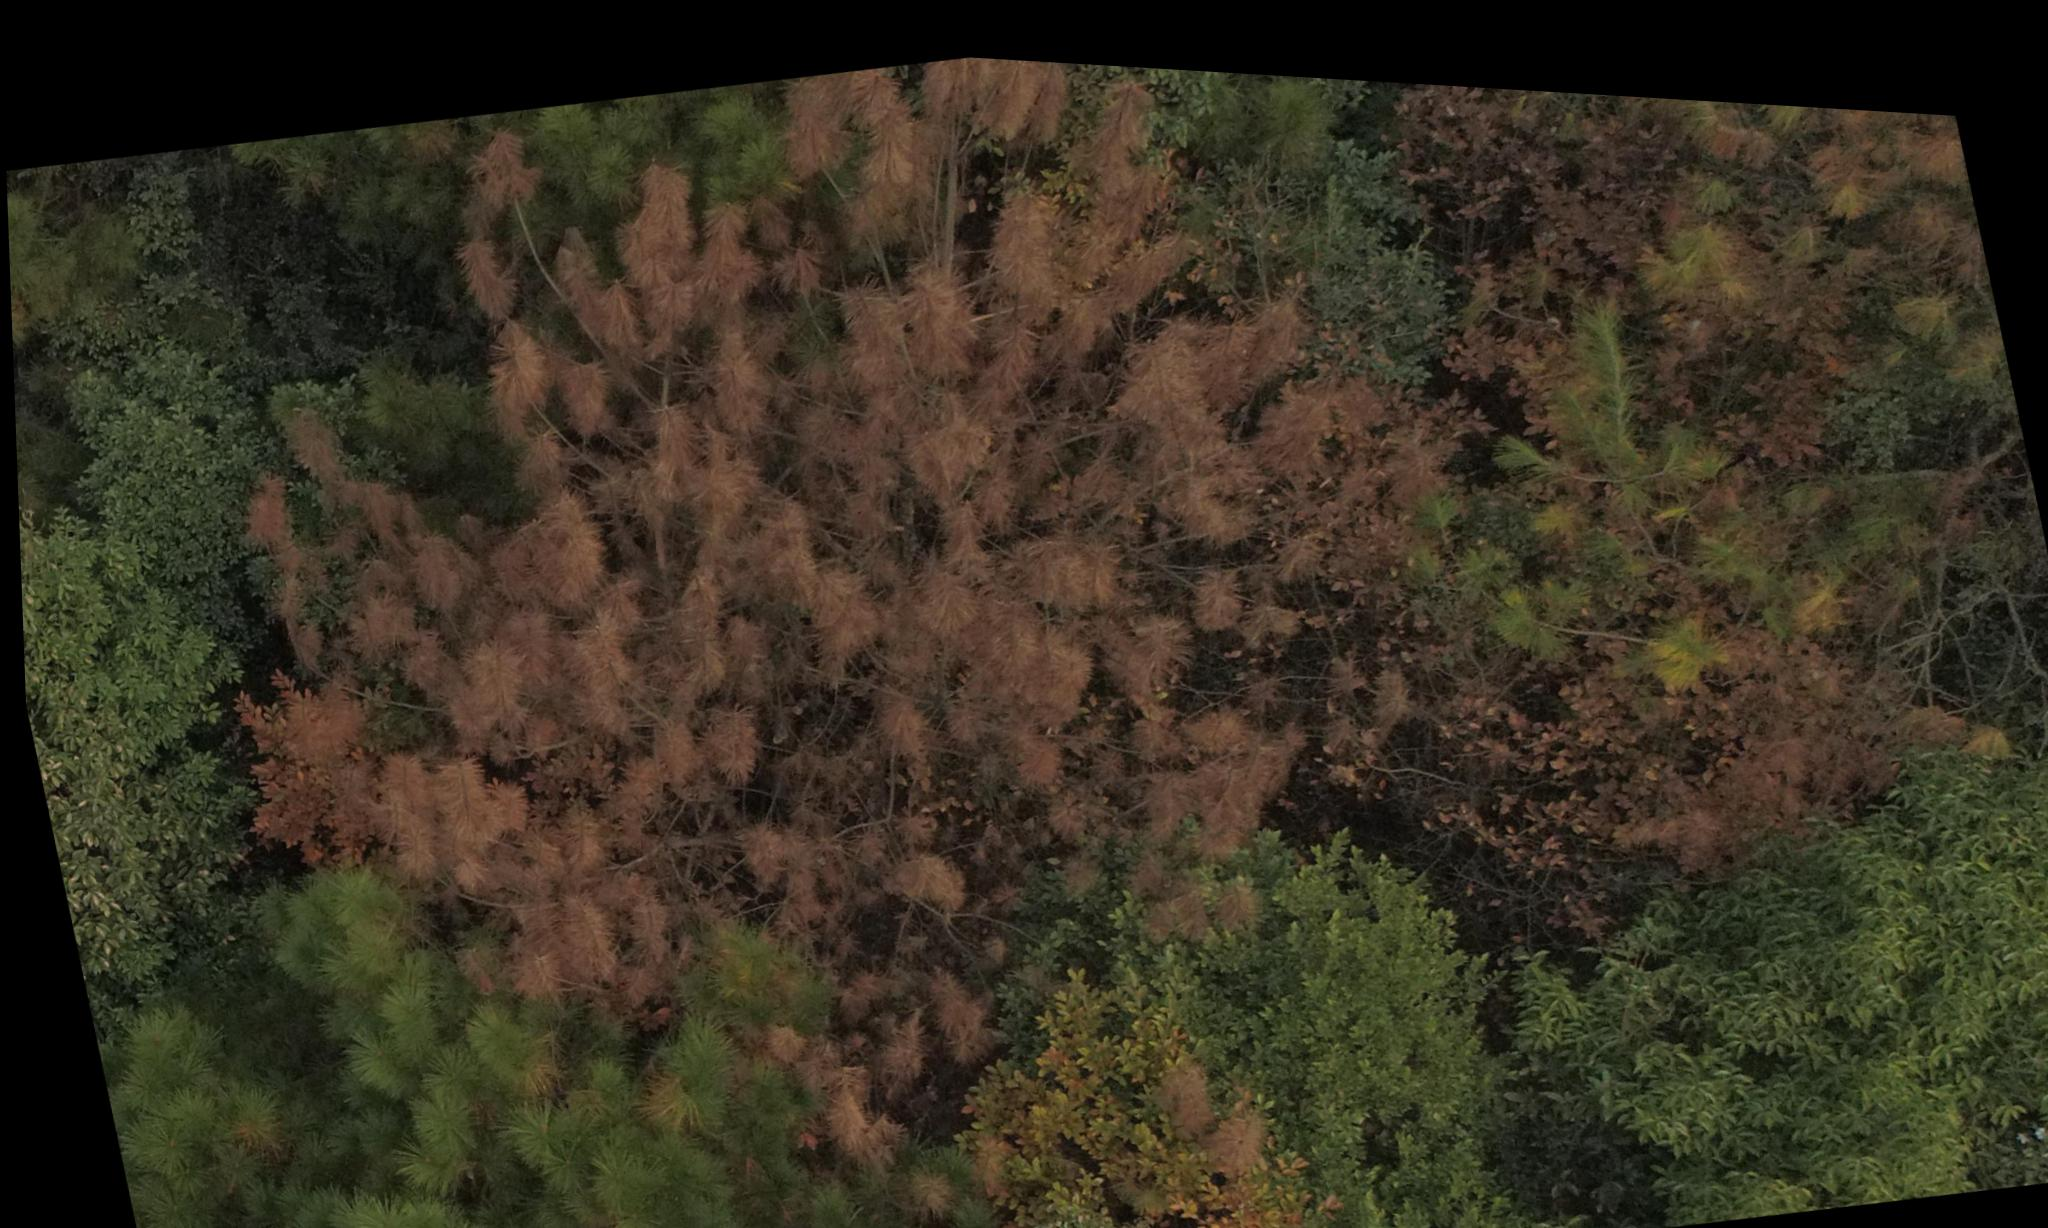heavy: (140, 6, 1424, 1205)
light: (1346, 63, 2048, 867)
